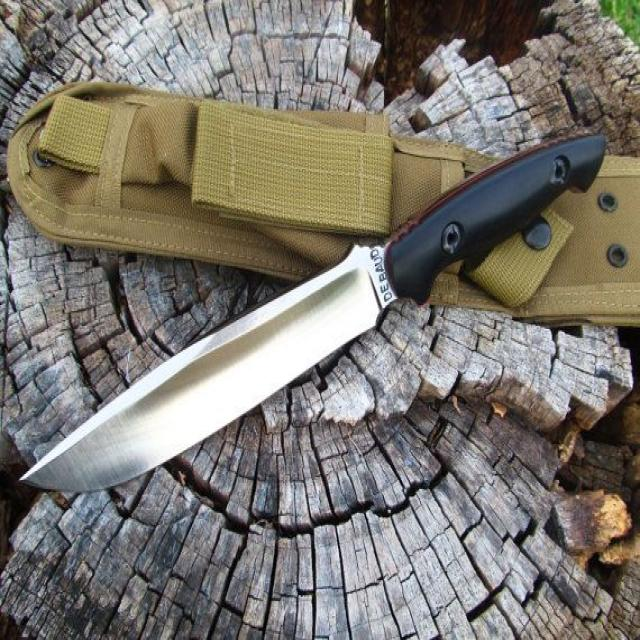knife: (11, 131, 611, 498)
